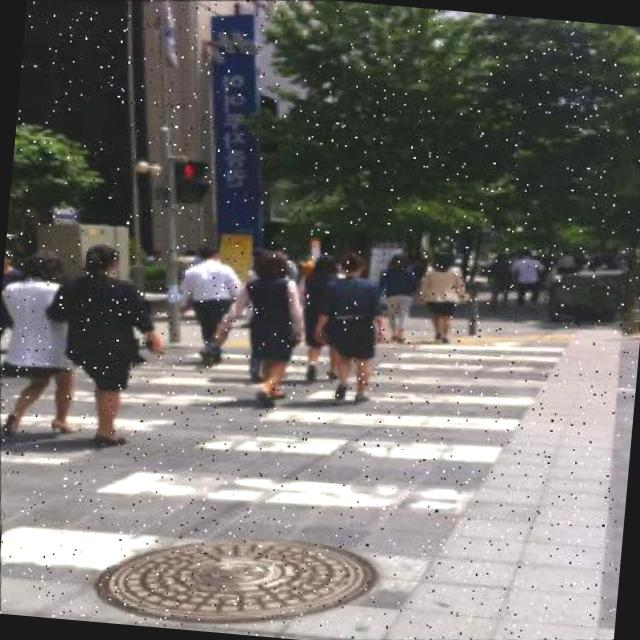Person: (34, 233, 171, 458), (199, 242, 316, 413), (0, 243, 86, 448), (298, 245, 397, 409), (166, 236, 248, 369), (412, 244, 474, 345), (369, 249, 424, 344), (504, 247, 547, 316)
